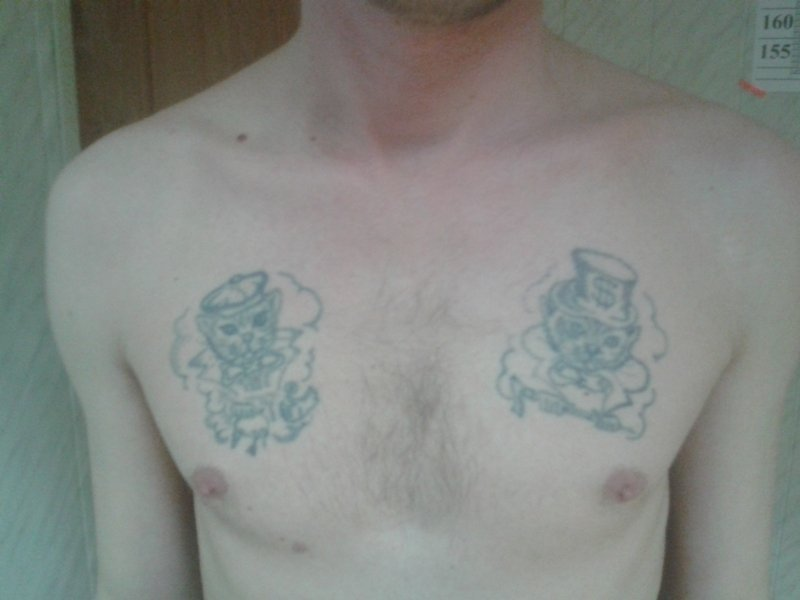tatu8_kot: (161, 257, 347, 465), (490, 245, 669, 451)
